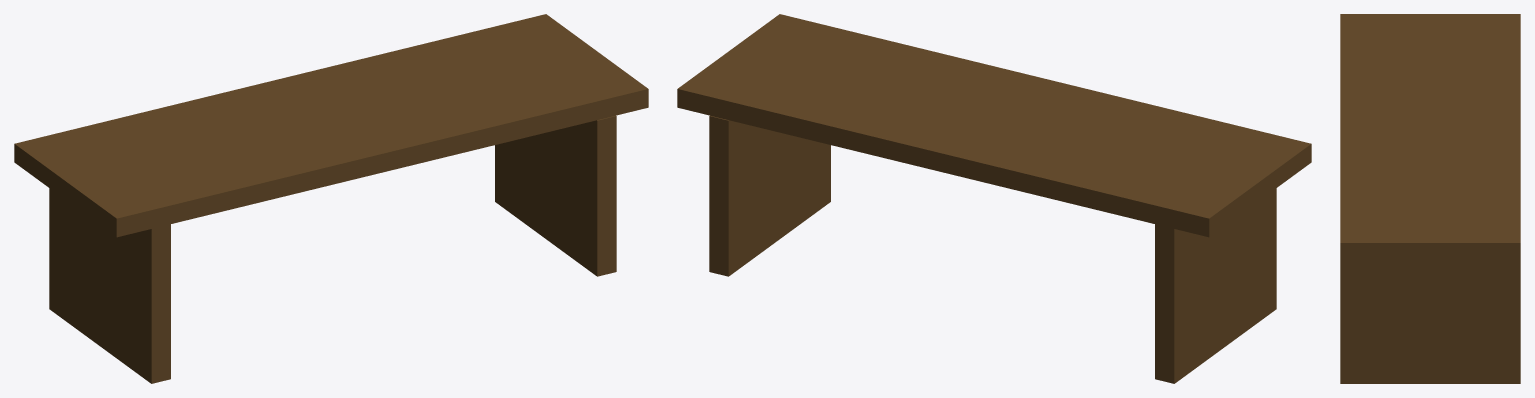
File: table.fbx
3 views of the same model, side by side, from view 1: azimuth 30°, elevation 25°; view 2: azimuth 150°, elevation 25°; view 3: azimuth 270°, elevation 25° (orthographic). The views are drawn at different scales.
Visible parts, largest first — view 1: Table, Cube.001, Cube.002; view 2: Table, Cube.001, Cube.002; view 3: Table, Cube.002.
Part boxes in pixels (left/top/right/bottom): Table: left=14, top=14, right=648, bottom=237; Cube.001: left=49, top=188, right=170, bottom=383; Cube.002: left=495, top=115, right=616, bottom=276; Table: left=677, top=14, right=1311, bottom=237; Cube.001: left=1155, top=188, right=1276, bottom=383; Cube.002: left=709, top=115, right=830, bottom=276; Table: left=1340, top=14, right=1520, bottom=259; Cube.002: left=1340, top=259, right=1520, bottom=383.
Size of the model in its own units: 600 by 189 by 200.
